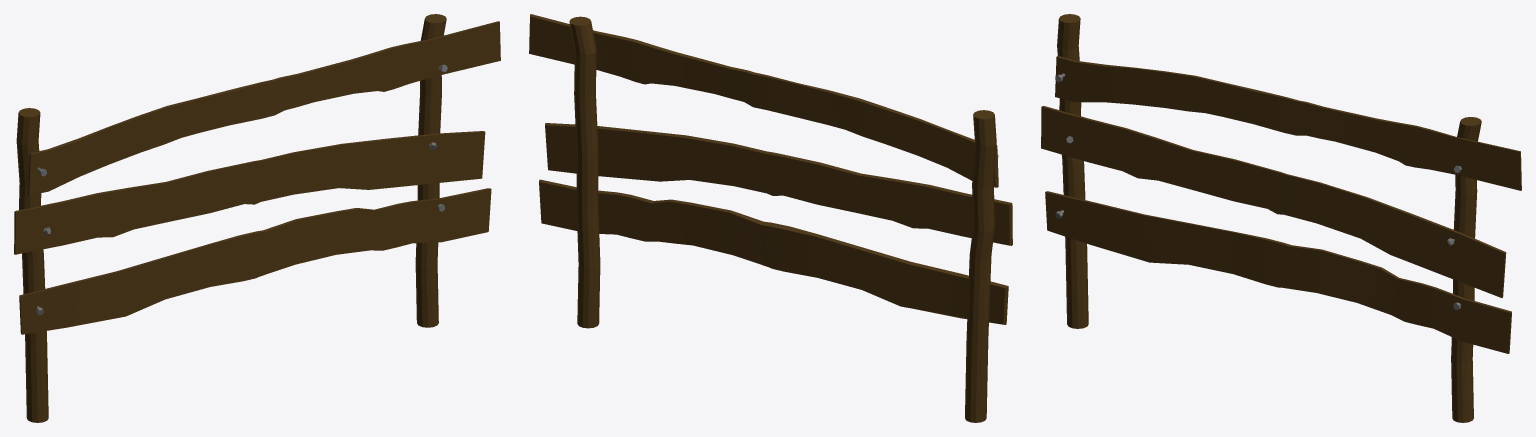
File: Płot (1).fbx
3 renders of one model, left to right at view 1: azimuth 30°, elevation 25°; view 2: azimuth 150°, elevation 25°; view 3: azimuth 330°, elevation 25°, orthographic.
Parts seen in each view (by area): view 1: płot, noga 2, noga 1; view 2: płot, noga 1, noga 2; view 3: płot, noga 2, noga 1.
Part boxes in pixels (x1,y1,x2,y2): płot: (14, 21, 500, 334); noga 2: (16, 108, 48, 422); noga 1: (415, 14, 446, 327); płot: (529, 14, 1012, 324); noga 1: (569, 16, 600, 328); noga 2: (965, 110, 996, 422); płot: (1041, 56, 1521, 353); noga 2: (1057, 14, 1088, 328); noga 1: (1451, 117, 1481, 422).
Bounding box in the file's own units: 238 × 144 × 15.86.
